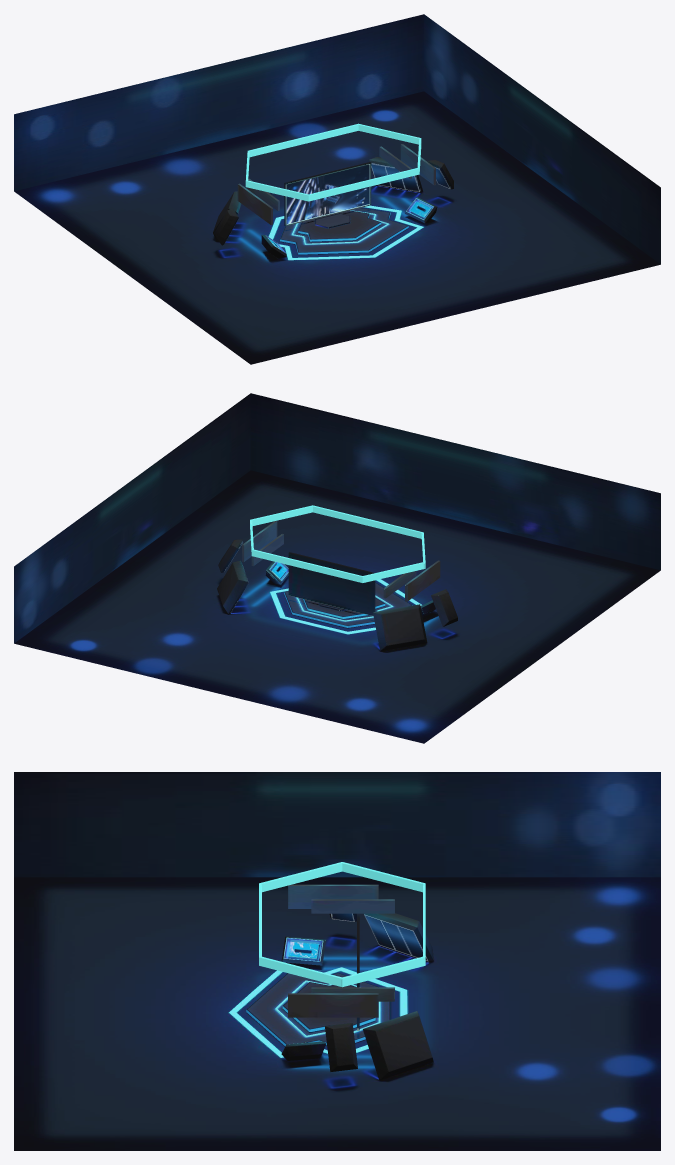
File: showroom.glb
3 views of the same model, one above another, from view 1: azimuth 30°, elevation 25°; view 2: azimuth 150°, elevation 25°; view 3: azimuth 270°, elevation 25° (orthographic). The views are drawn at different scales.
Parts seen in each view (by area): view 1: floor, house, stage, roof, screen, Cube dec, dec, lighting, Cube light, frame; view 2: floor, house, Cube dec, frame, roof, dec, stage, lighting, Cube light; view 3: floor, house, Cube dec, dec, stage, roof, Cube light, lighting.
Boxes of the visible parts, x1,y1,x2,y2 form: floor: [14, 91, 660, 364]; house: [14, 14, 660, 264]; stage: [280, 208, 408, 254]; roof: [245, 123, 421, 201]; screen: [286, 164, 369, 223]; Cube dec: [213, 157, 453, 245]; dec: [237, 144, 435, 224]; lighting: [268, 205, 423, 260]; Cube light: [261, 197, 437, 258]; frame: [284, 162, 371, 225]; floor: [14, 470, 660, 743]; house: [14, 393, 660, 643]; Cube dec: [217, 539, 457, 650]; frame: [288, 552, 375, 615]; roof: [250, 505, 425, 582]; dec: [242, 521, 440, 601]; stage: [284, 582, 412, 627]; lighting: [270, 579, 421, 634]; Cube light: [265, 561, 435, 615]; floor: [14, 877, 660, 1150]; house: [14, 772, 660, 877]; Cube dec: [325, 913, 433, 1080]; dec: [288, 884, 394, 1017]; stage: [246, 972, 390, 1046]; roof: [259, 862, 425, 987]; Cube light: [281, 936, 326, 1060]; lighting: [229, 967, 407, 1057].
Bounding box in the file's own units: 89.12 × 16.03 × 89.12.
20 materials, 20 textured.
